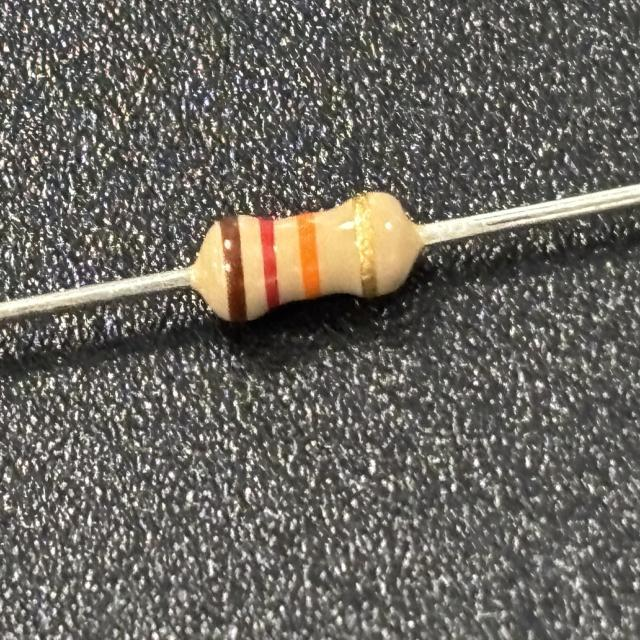resistor: (204, 184, 408, 333)
